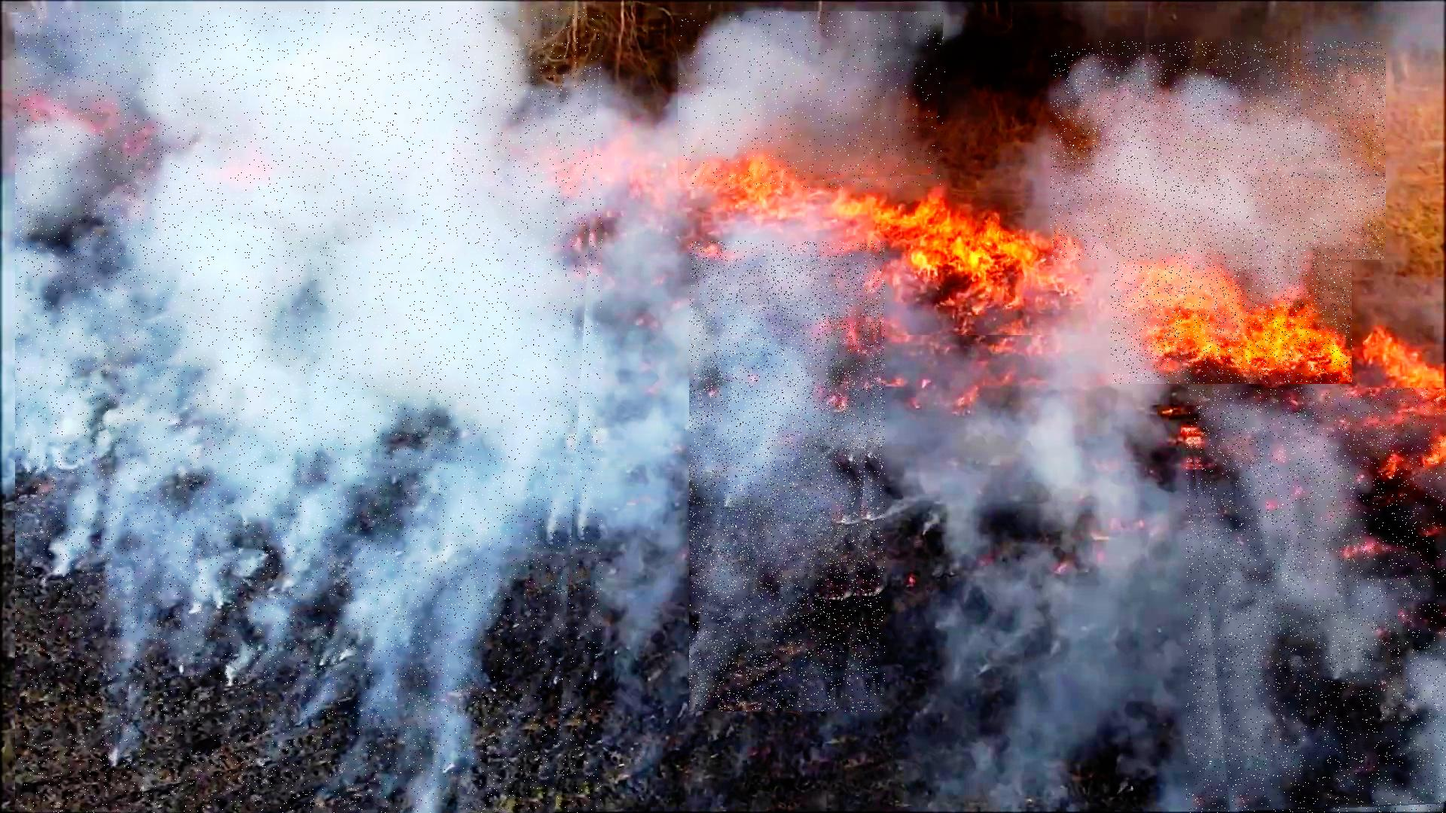fire: (1111, 237, 1352, 384), (881, 188, 1096, 335)
smoke: (15, 8, 602, 813), (1186, 388, 1446, 813), (689, 241, 885, 711), (1051, 41, 1386, 260), (678, 11, 945, 188)
